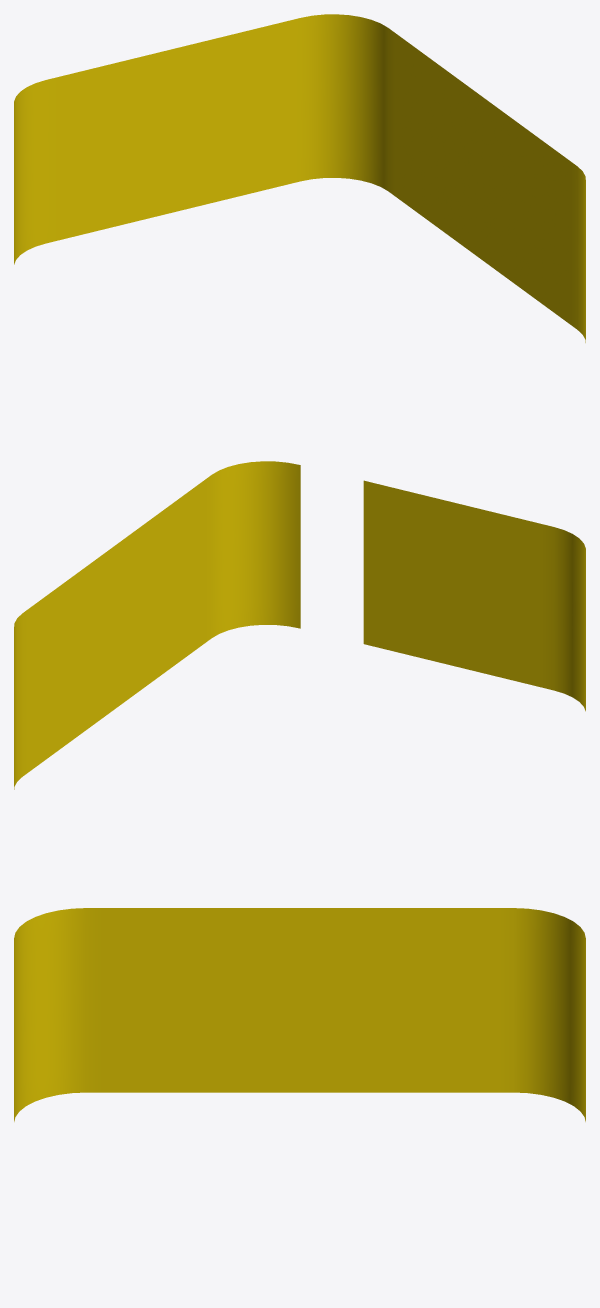
File: craive-display.gltf
3 renders of one model, top to bottom at view 1: azimuth 30°, elevation 25°; view 2: azimuth 150°, elevation 25°; view 3: azimuth 270°, elevation 25°, orthographic. The views are drawn at different scales.
Parts seen in each view (by area): view 1: Node; view 2: Node; view 3: Node.
Part boxes in pixels (box(x1,y1,x2,y2)): Node: box(14, 14, 585, 342); Node: box(14, 461, 585, 789); Node: box(14, 908, 585, 1121).
Size of the model in its own units: 393 by 168 by 472.
